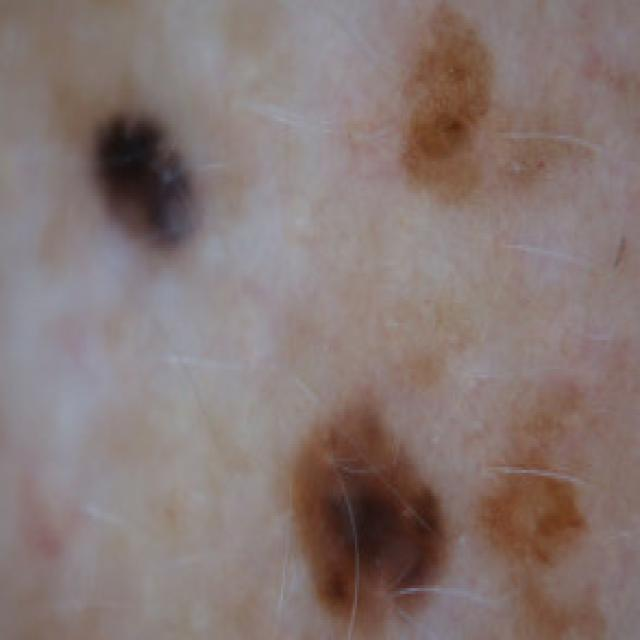Nao cancer: (94, 120, 200, 244)
